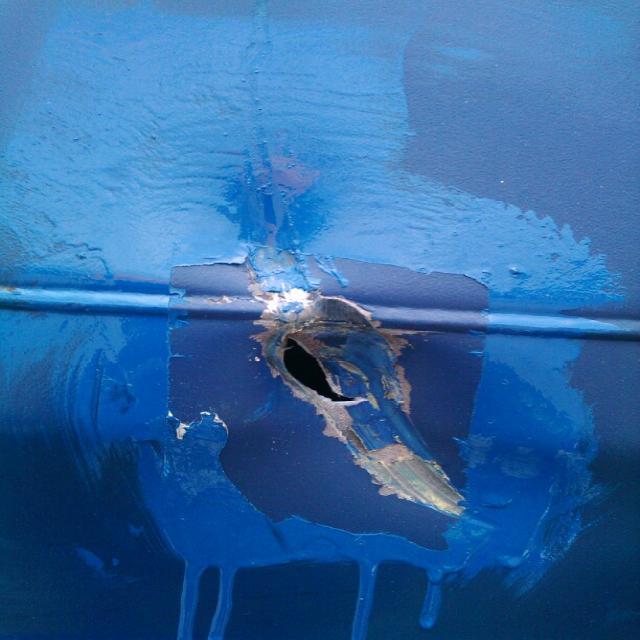hole: (217, 276, 399, 451)
